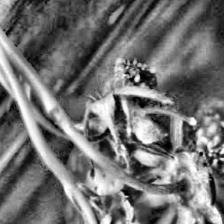Gray Mold: (75, 58, 197, 165)
